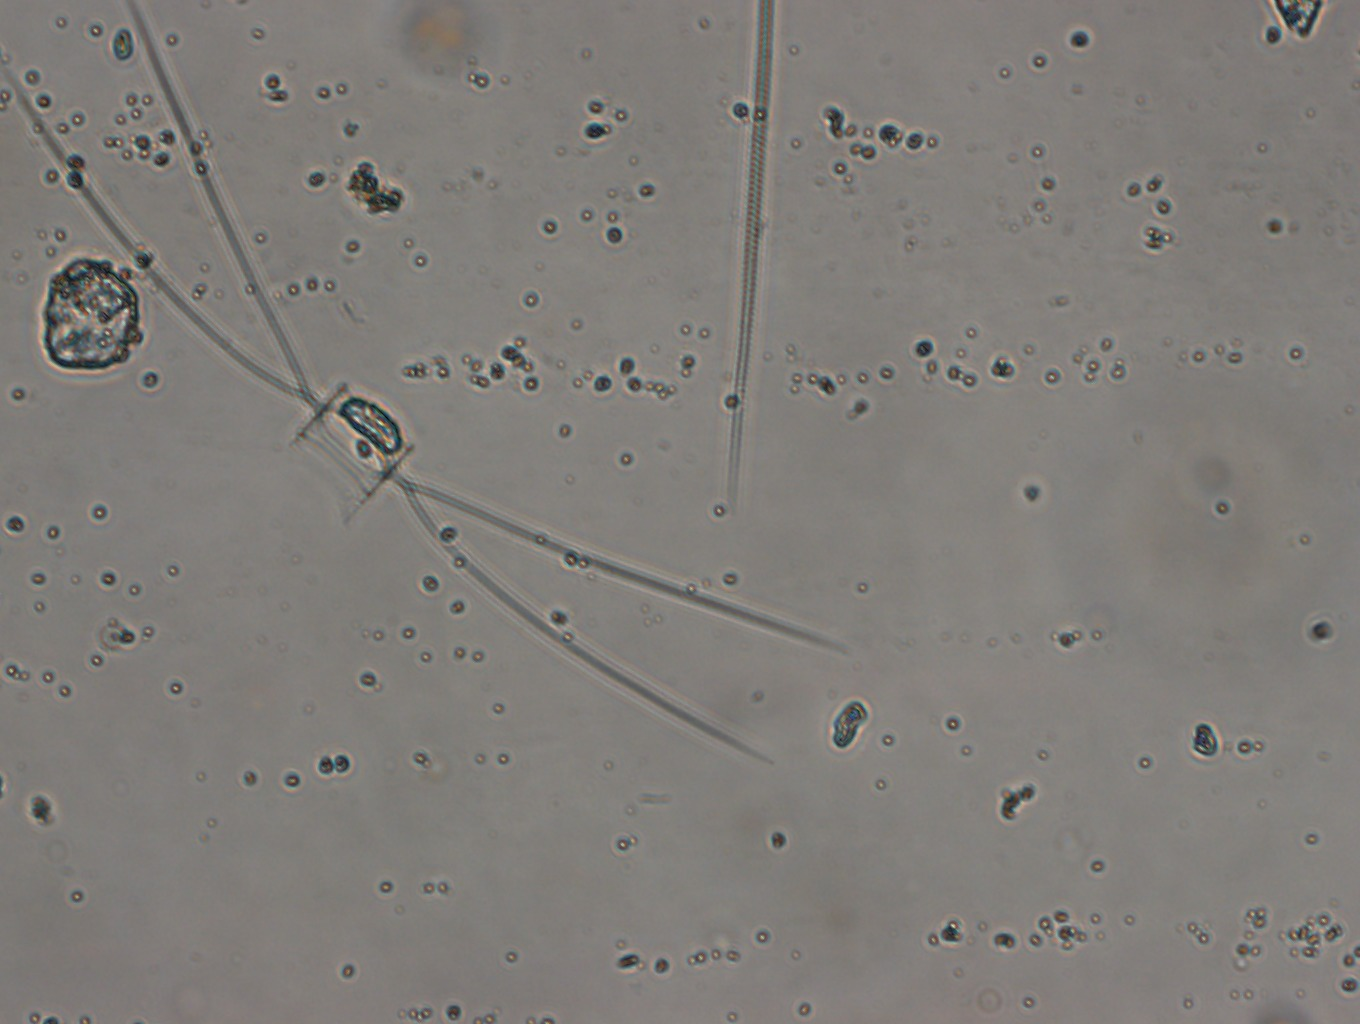chaetoceros: (11, 15, 817, 759)
